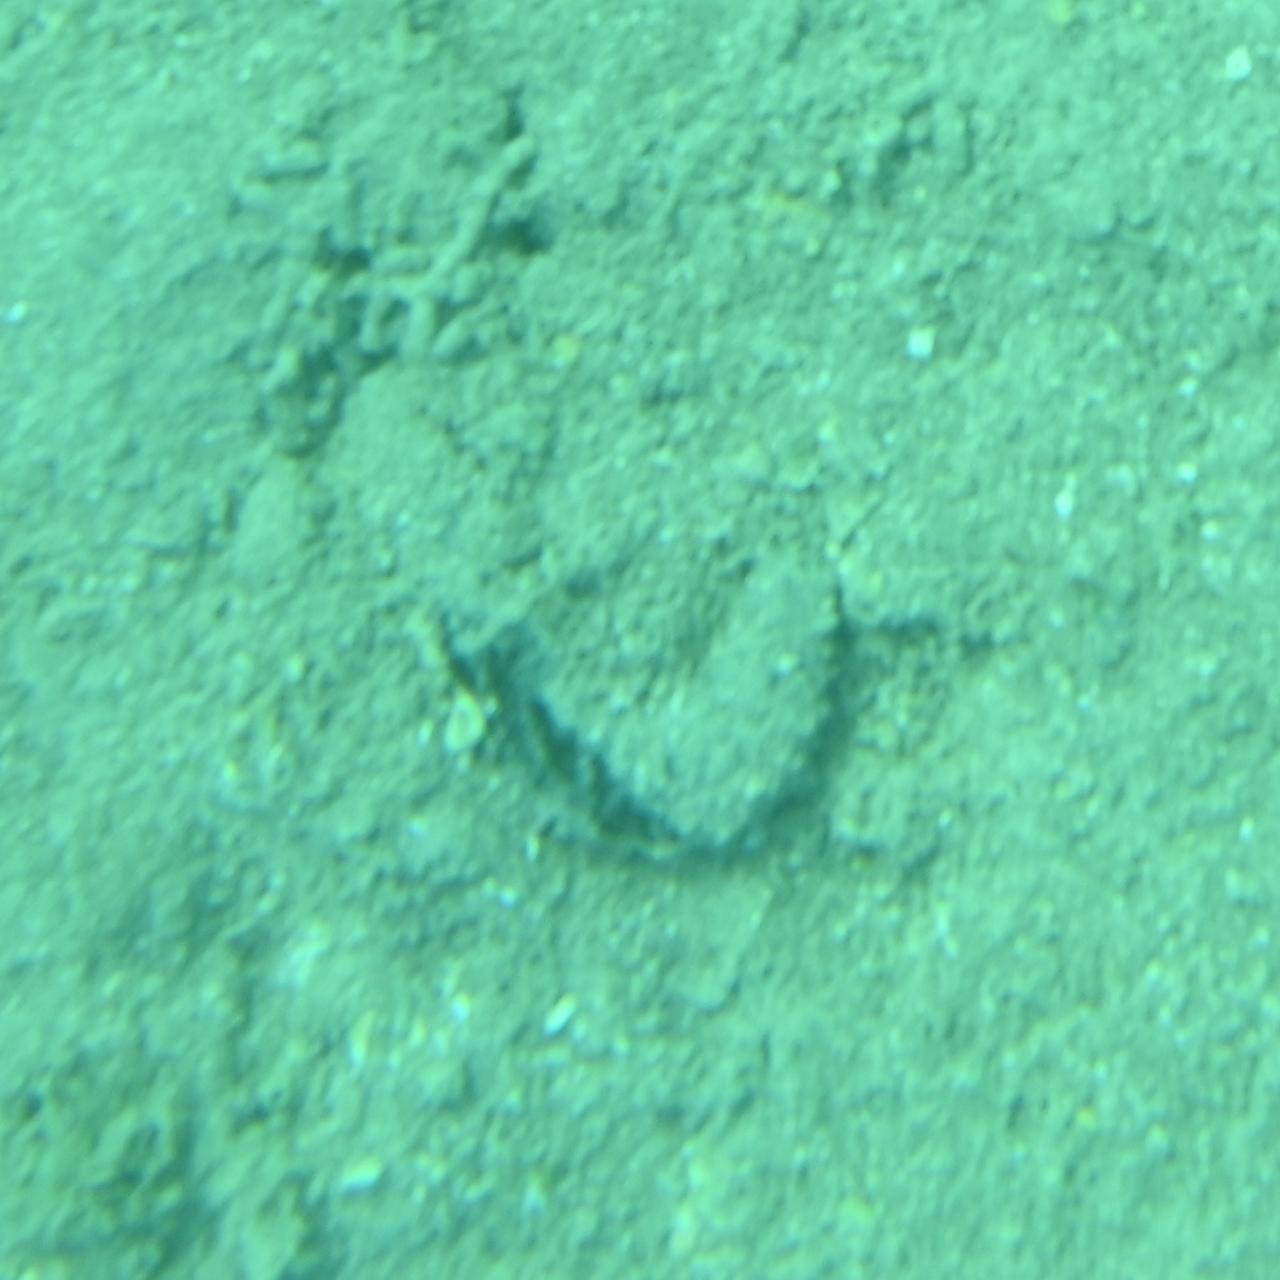Holothuria tubulosa: (423, 523, 857, 912)
